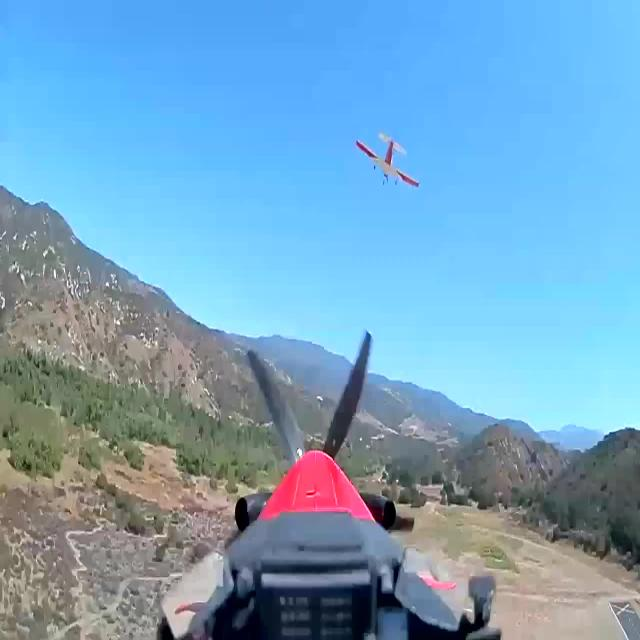iha: (387, 130, 389, 194)
